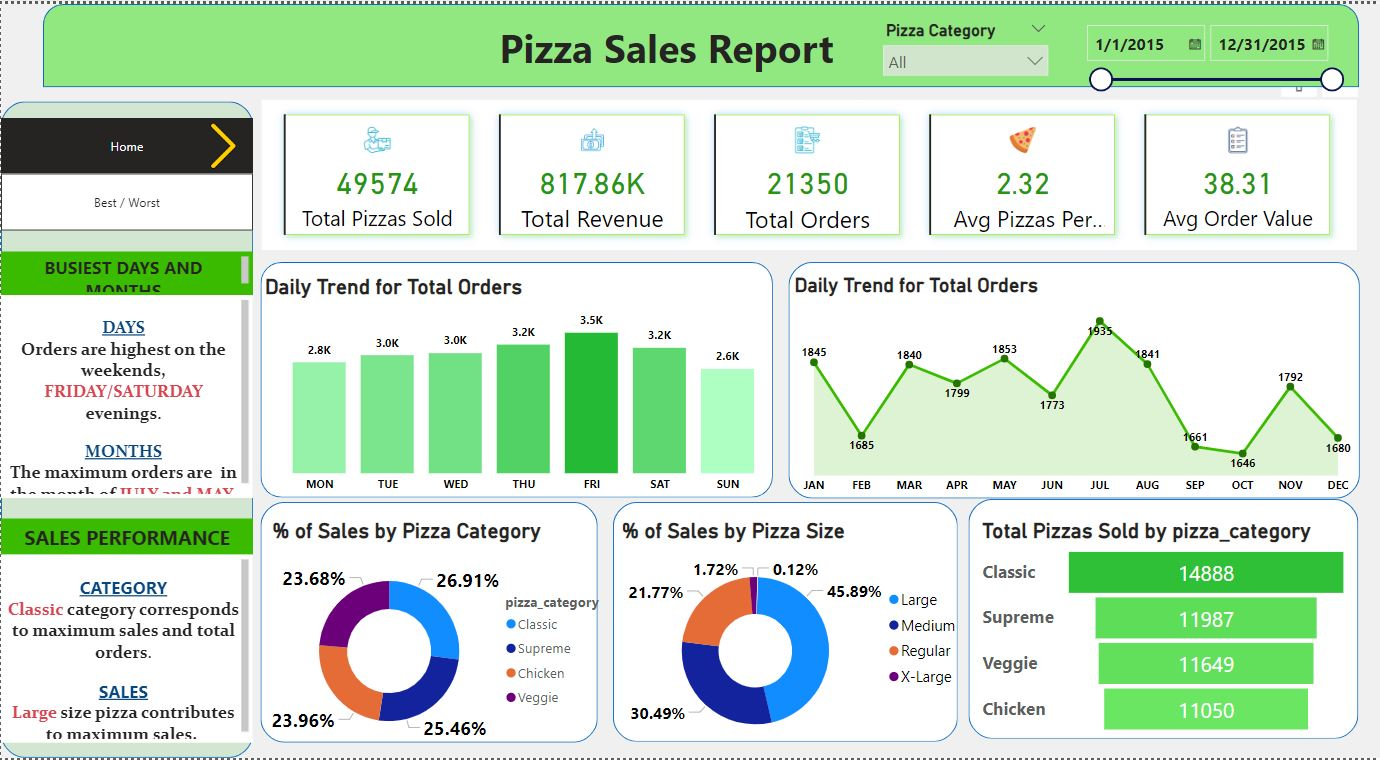

The dashboard page shown, as its layout file describes it:
{"tool":"powerbi","page":{"name":"Home","canvas":[1500,820],"ordinal":0},"visuals":[{"type":"cardVisual","fields":{"Data":["pizza_sales.Total Pizzas Sold","pizza_sales.Total Revenue","pizza_sales.Total Orders","pizza_sales.Avg Pizzas Per Order","pizza_sales.Avg Order Value"]},"box":[283,103.2,1192.6,165.5],"z":0},{"type":"shape","box":[45.3,0,1431.1,90.6],"z":1000},{"type":"textbox","box":[442,12.7,563.4,77.9],"z":2000},{"type":"shape","box":[283,281.3,557.2,256.3],"z":3000},{"type":"shape","box":[0,106.8,274.1,713.8],"z":4000},{"type":"columnChart","title":"Daily Trend for Total Orders","fields":{"Y":["pizza_sales.Total Orders"],"Category":["pizza_sales.Order_Day"]},"box":[282.6,293.5,572.4,246.4],"z":5000},{"type":"shape","box":[856.9,280.8,621.4,257.2],"z":6000},{"type":"areaChart","title":"Daily Trend for Total Orders","fields":{"Category":["pizza_sales.Order Month"],"Y":["pizza_sales.Total Orders"]},"box":[858.7,293.5,621.4,248.2],"z":7000},{"type":"shape","box":[283,541.1,366.7,261.7],"z":8000},{"type":"shape","box":[664.8,541.6,375,260.9],"z":9000},{"type":"shape","box":[1052.5,538,423.9,260.9],"z":10000},{"type":"donutChart","title":"% of Sales by Pizza Category","fields":{"Category":["pizza_sales.pizza_category"],"Y":["pizza_sales.Total Revenue"]},"box":[290.4,559.5,380.1,261],"z":11000},{"type":"donutChart","title":"% of Sales by Pizza Size","fields":{"Y":["pizza_sales.Total Revenue"],"Category":["pizza_sales.pizza_size"]},"box":[670.3,559.8,382.2,260.9],"z":12000},{"type":"funnel","fields":{"Category":["pizza_sales.pizza_category"],"Y":["pizza_sales.Total Pizzas Sold"]},"box":[1061.6,559.8,407.6,239.1],"z":13000},{"type":"textbox","box":[0,268.8,274.1,48.1],"z":14000},{"type":"textbox","box":[0,316.9,274.1,220.7],"z":15000},{"type":"textbox","box":[0,558.9,274.1,39.2],"z":16000},{"type":"textbox","box":[0,598.1,274.1,204.7],"z":17000},{"type":"slicer","fields":{"Values":["pizza_sales.pizza_category"]},"box":[948.8,12.5,199.4,65.9],"z":18000},{"type":"slicer","fields":{"Values":["pizza_sales.order_date"]},"box":[1167.7,12.5,300.8,90.8],"z":19000},{"type":"pageNavigator","box":[0,124.6,274.1,60.5],"z":20000},{"type":"pageNavigator","box":[0,185.1,274.1,62.3],"z":21000},{"type":"image","box":[208.3,124.6,65.9,60.5],"z":22000}]}

Visuals, with their boxes in screenshot pixels (x1, y1, x2, y2), scaled from the page's 1500x820 canvas onto the 1380x760 screenshot:
cardVisual - pizza_sales.Total Pizzas Sold x pizza_sales.Total Revenue: box(260, 96, 1358, 249)
shape: box(42, 0, 1358, 84)
textbox: box(407, 12, 925, 84)
shape: box(260, 261, 773, 498)
shape: box(0, 99, 252, 759)
"Daily Trend for Total Orders" columnChart: box(260, 272, 787, 500)
shape: box(788, 260, 1360, 499)
"Daily Trend for Total Orders" areaChart: box(790, 272, 1362, 502)
shape: box(260, 502, 598, 744)
shape: box(612, 502, 957, 744)
shape: box(968, 499, 1358, 740)
"% of Sales by Pizza Category" donutChart: box(267, 519, 617, 759)
"% of Sales by Pizza Size" donutChart: box(617, 519, 968, 759)
funnel - pizza_sales.pizza_category x pizza_sales.Total Pizzas Sold: box(977, 519, 1352, 740)
textbox: box(0, 249, 252, 294)
textbox: box(0, 294, 252, 498)
textbox: box(0, 518, 252, 554)
textbox: box(0, 554, 252, 744)
slicer - pizza_sales.pizza_category: box(873, 12, 1056, 73)
slicer - pizza_sales.order_date: box(1074, 12, 1351, 96)
pageNavigator: box(0, 115, 252, 172)
pageNavigator: box(0, 172, 252, 229)
image: box(192, 115, 252, 172)
